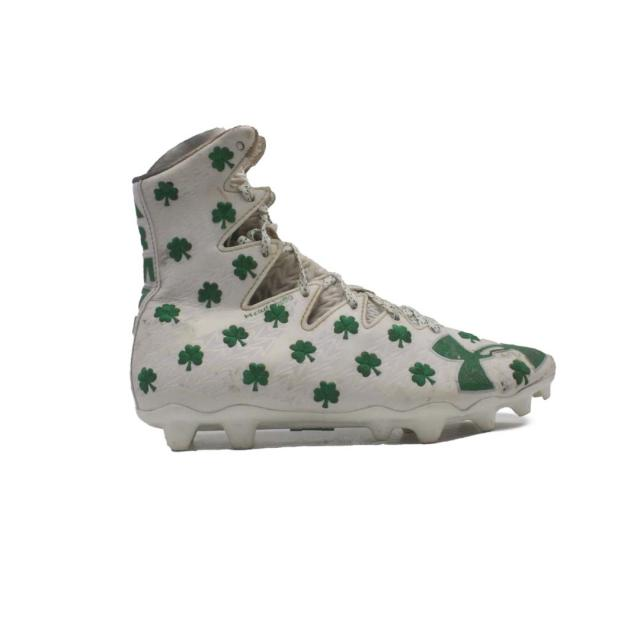heel: (129, 178, 164, 407)
midsole: (137, 363, 554, 454)
uppersole: (153, 124, 547, 414)
